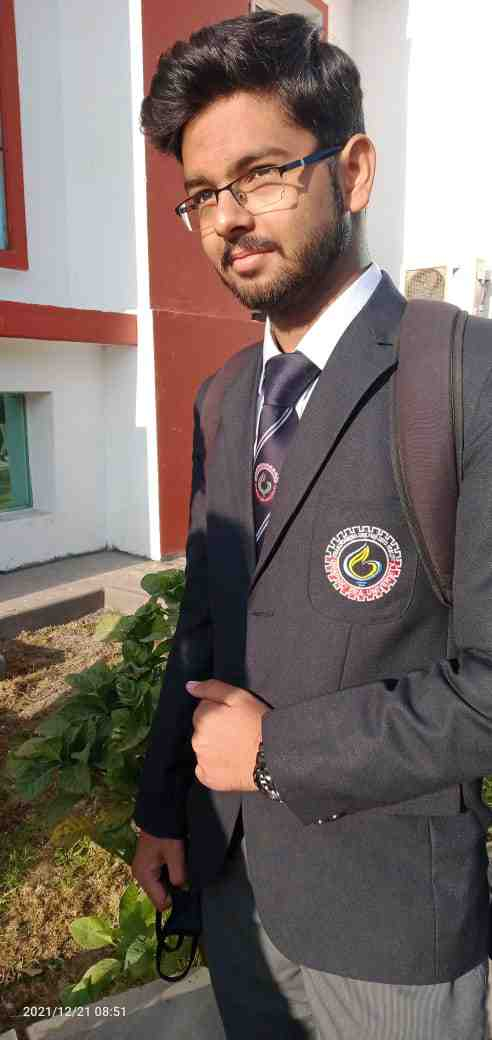blazer: (134, 272, 491, 974)
pant: (202, 854, 492, 1030)
tie: (230, 351, 333, 552)
